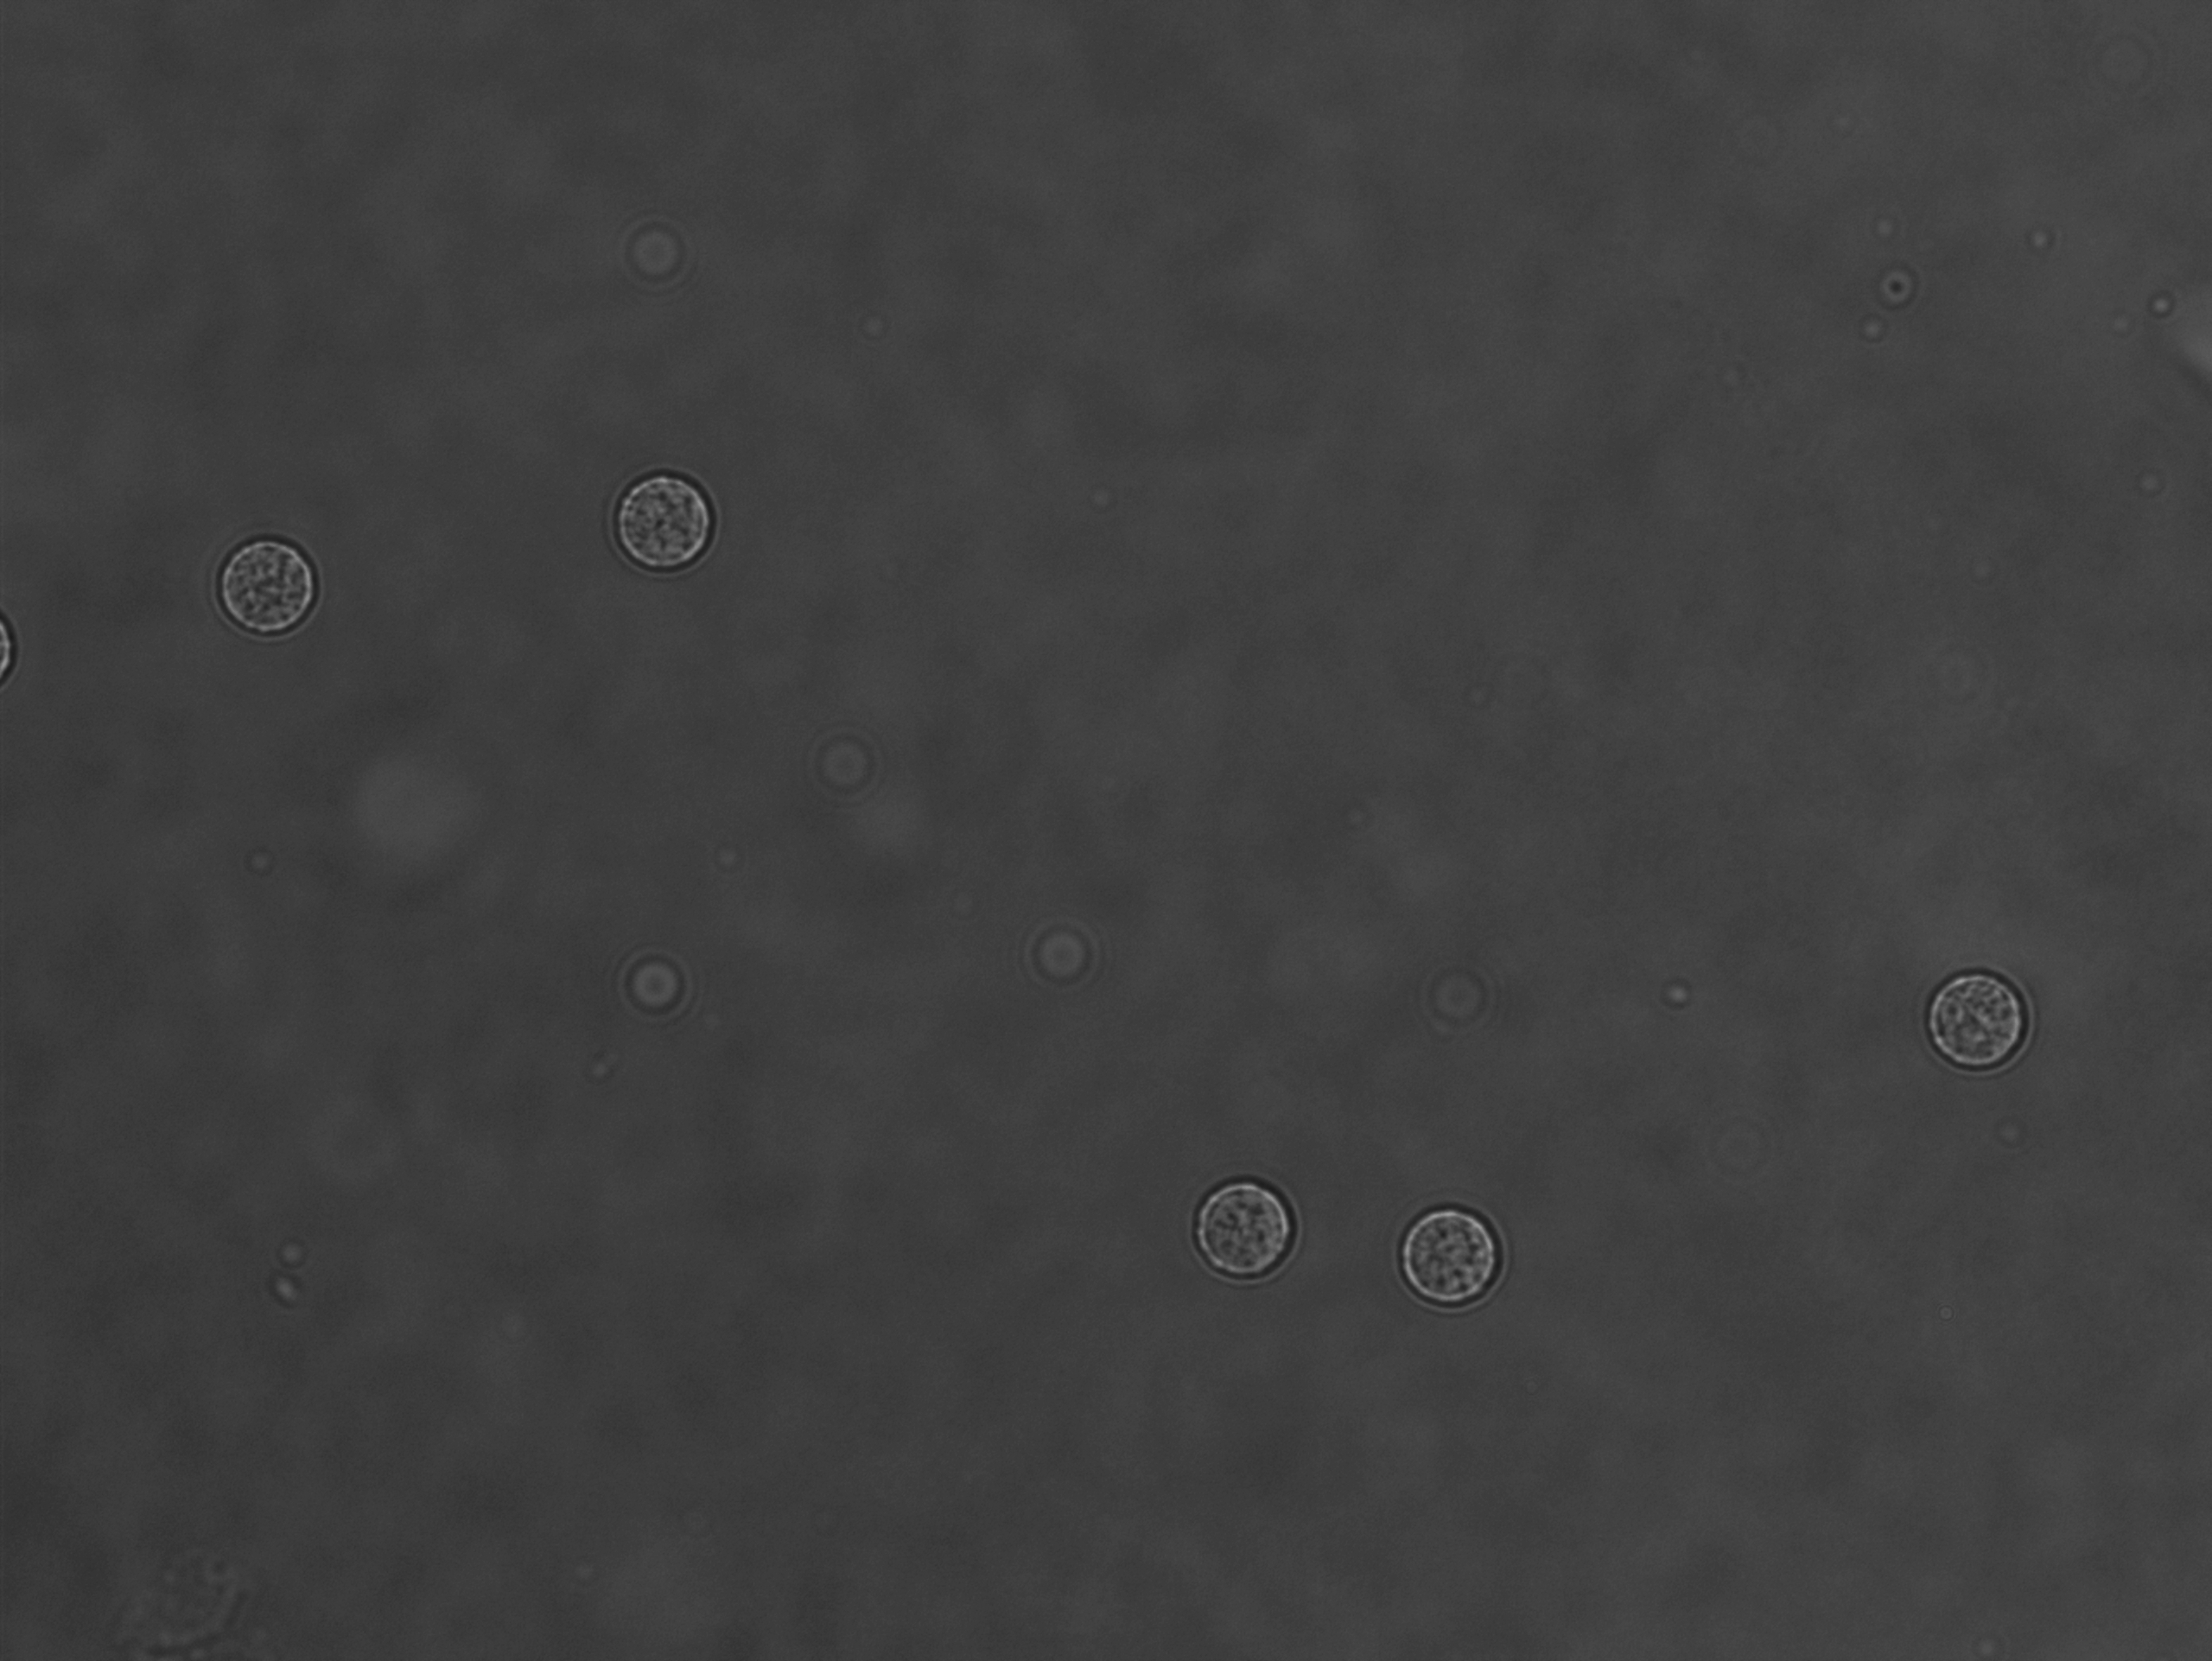depth:0: (194, 497, 352, 670), (1889, 940, 2053, 1101), (1165, 1155, 1324, 1307), (1376, 1176, 1525, 1328), (595, 438, 740, 590)
